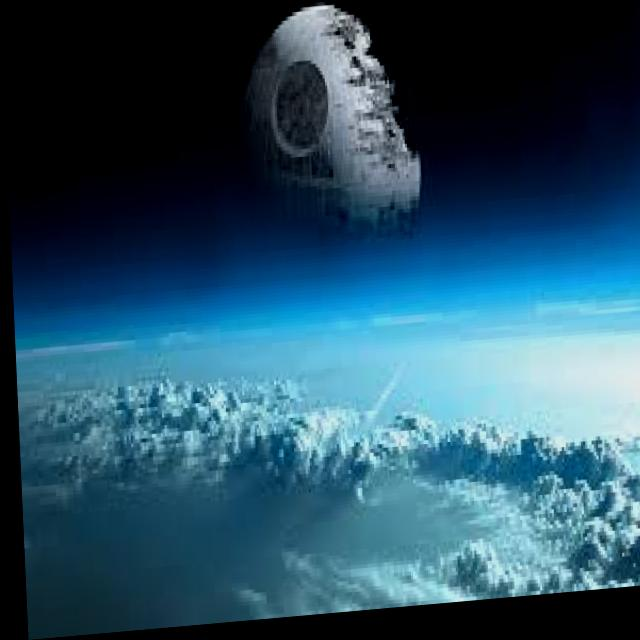deathStar: (222, 2, 424, 273)
